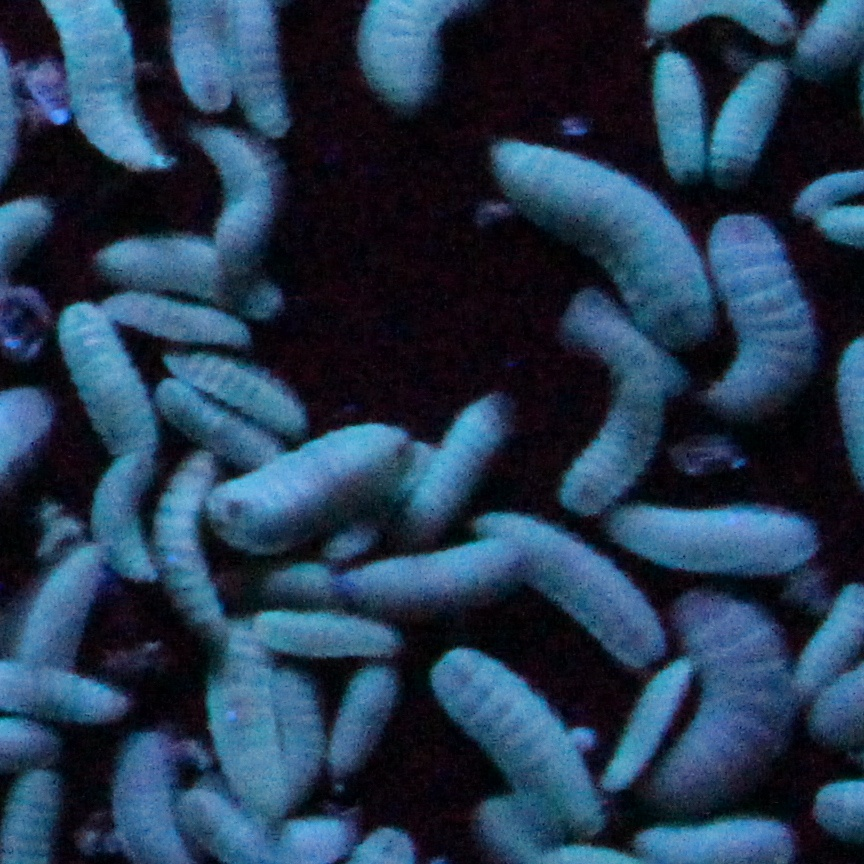larve: (494, 137, 734, 347), (644, 580, 809, 807), (434, 642, 611, 835), (44, 302, 166, 580), (209, 412, 411, 552), (479, 522, 659, 670), (701, 205, 809, 412), (201, 612, 291, 822), (561, 340, 666, 520), (51, 305, 164, 467), (609, 497, 821, 577), (414, 395, 511, 530), (9, 530, 104, 667), (194, 130, 274, 292), (171, 352, 311, 435), (606, 652, 686, 792), (361, 542, 544, 600), (264, 595, 404, 670), (644, 50, 714, 192), (91, 227, 231, 295), (724, 55, 786, 190), (336, 670, 401, 797), (276, 672, 326, 805)
